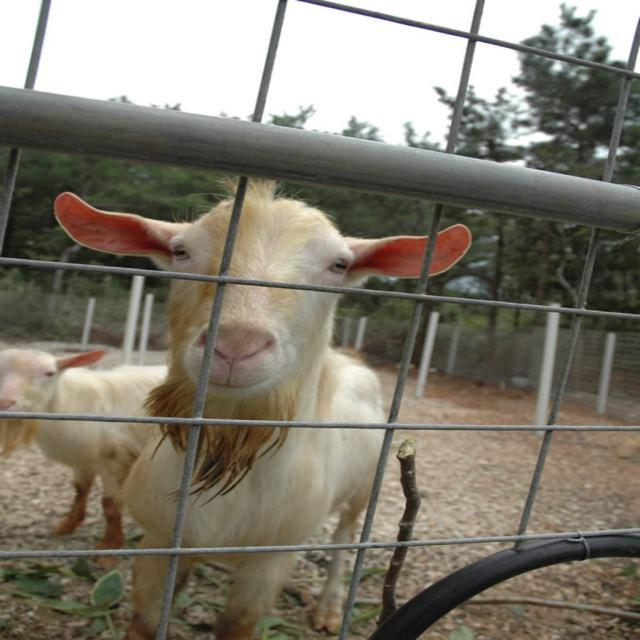Goat: (53, 174, 474, 638), (2, 346, 172, 568)
